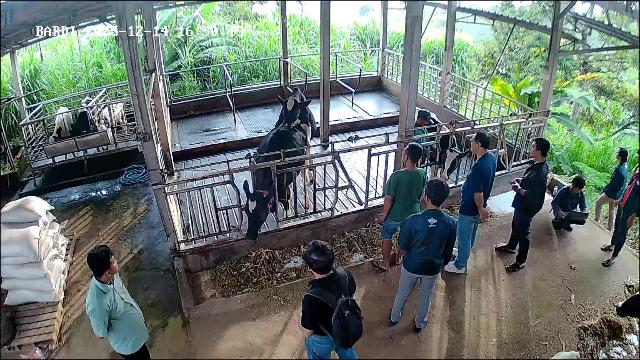mounting: (270, 86, 317, 184)
